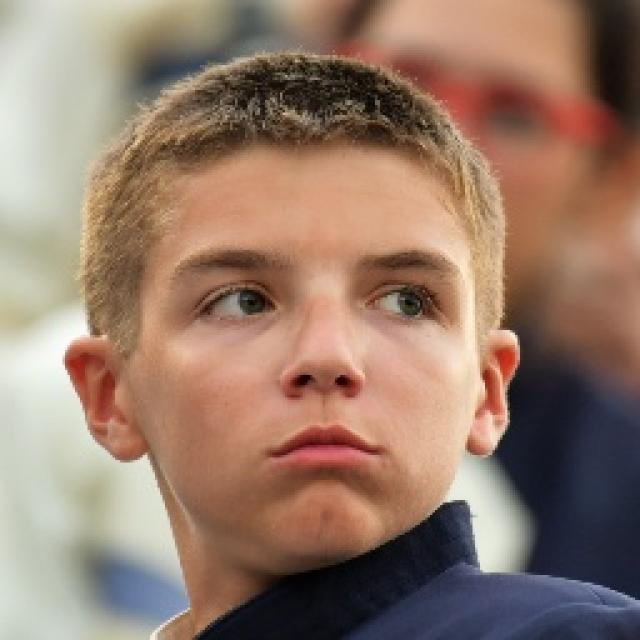earlobe: (98, 416, 148, 462), (466, 412, 508, 456)
eye: (200, 286, 281, 322), (366, 283, 436, 322)
nose: (279, 382, 367, 421)
wholeear: (64, 336, 149, 459), (467, 330, 520, 456)
